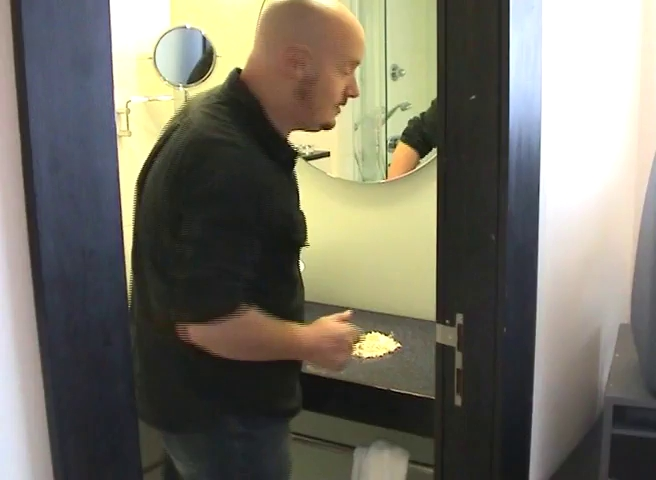person: (131, 1, 365, 480)
